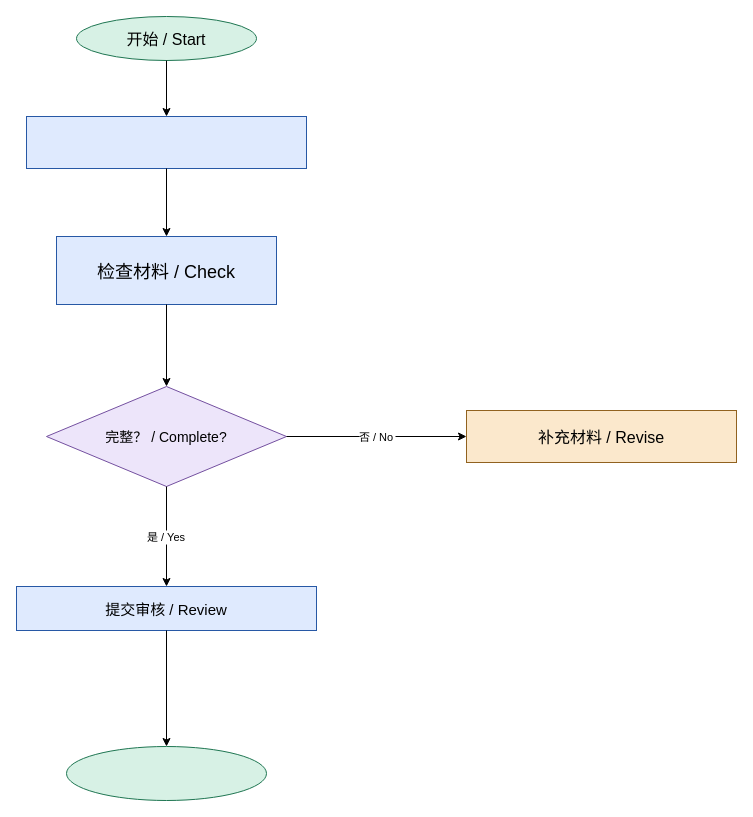
The diagram is 753 pixels wide and 817 high, and some of its shapes have lost their labels. Each missing label, with the centre of its shape:
接收申请 / Receive: the point at 166,142
结束 / End: the point at 166,773
